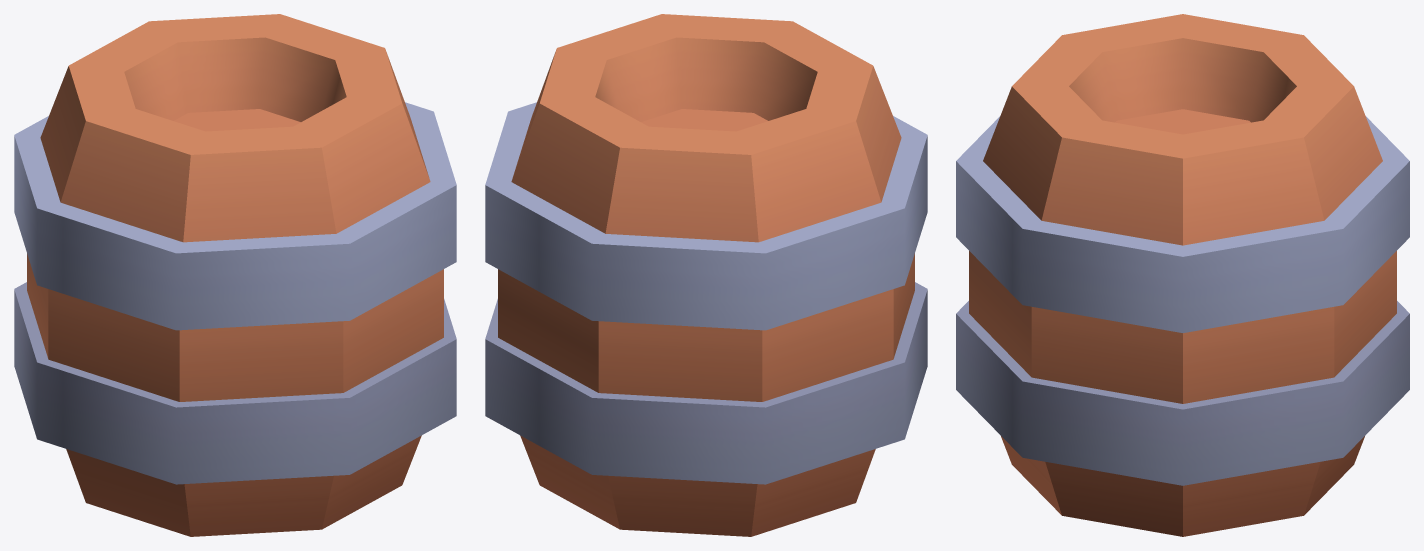
File: kenney-pirate-barrel.glb
3 views of the same model, side by side, from view 1: azimuth 30°, elevation 25°; view 2: azimuth 150°, elevation 25°; view 3: azimuth 270°, elevation 25° (orthographic).
Parts seen in each view (by area): view 1: barrel; view 2: barrel; view 3: barrel.
Part boxes in pixels (x1,y1,x2,y2): barrel: [14, 14, 456, 536]; barrel: [485, 14, 927, 536]; barrel: [956, 14, 1409, 536].
Size of the model in its own units: 1.34 by 1.23 by 1.34.
Materials: 1 (1 with a texture image).
